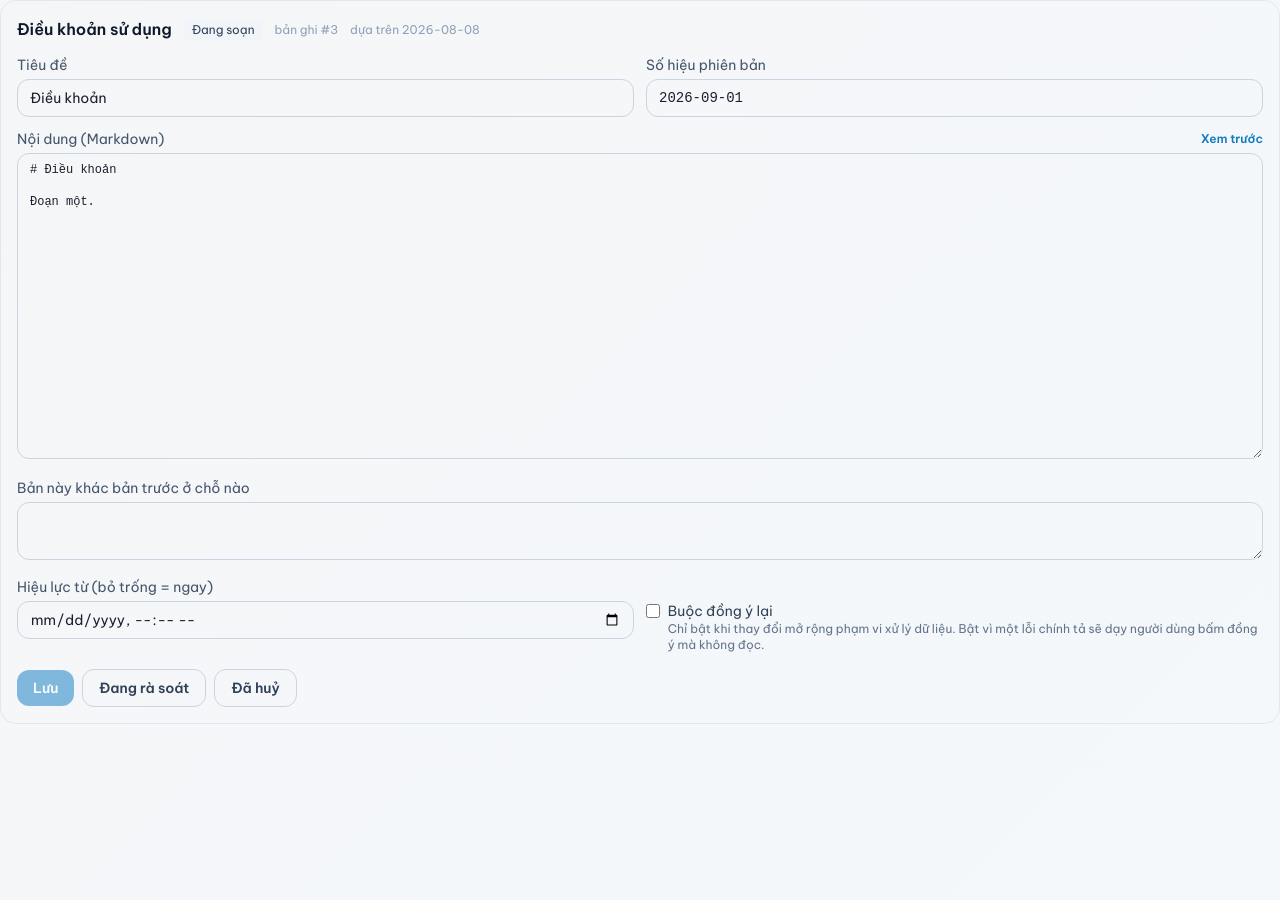
Scenario: DraftEditor — xung đột ghi › GIỮ NGUYÊN bài đang gõ khi máy chủ báo xung đột
Replace the text in the text box named "Nội dung" with "# Bài của tôi, không được mất". click: (640,306)
box: [17,153,1263,459]
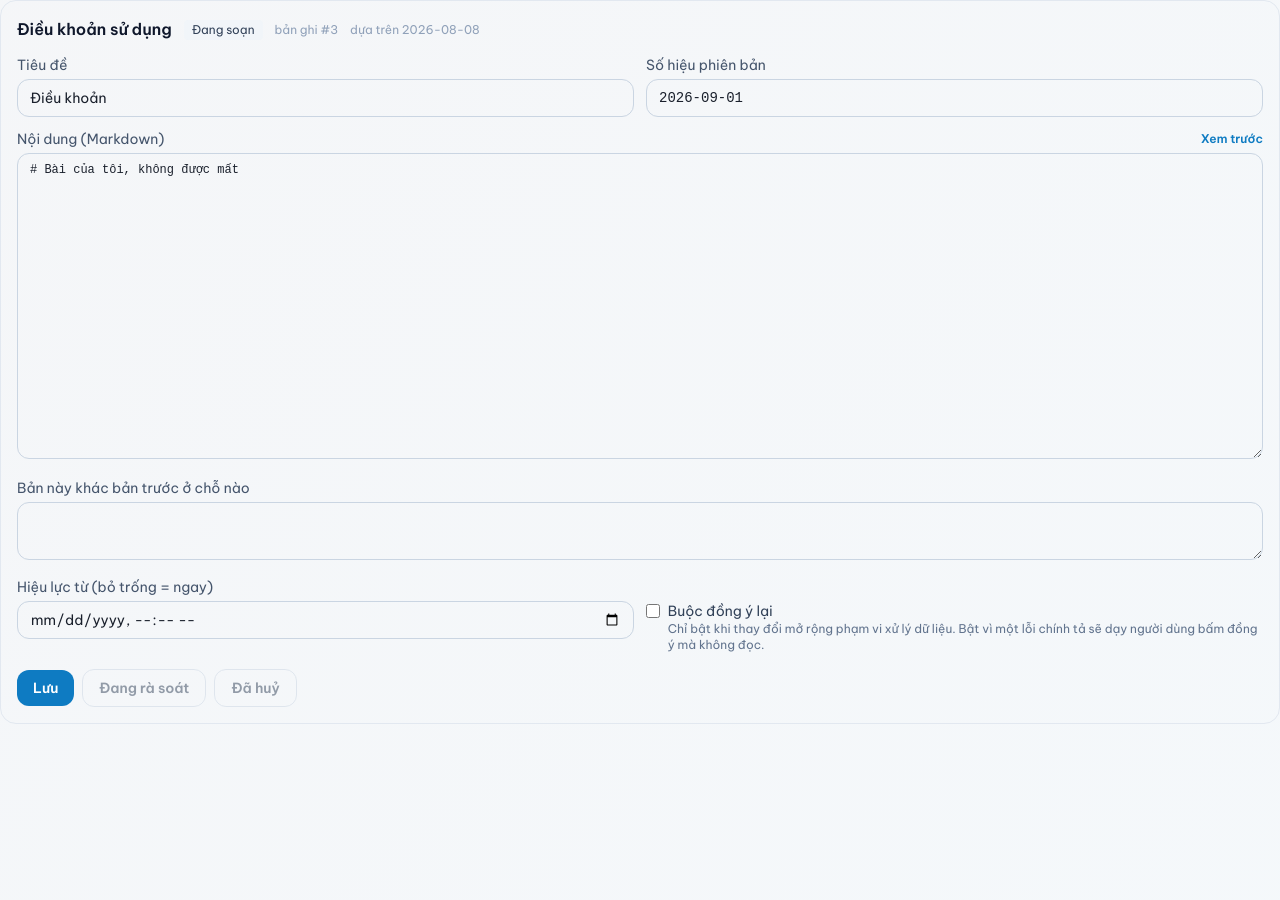
Click the button "Lưu". click: (46,688)
box: [17,670,74,706]
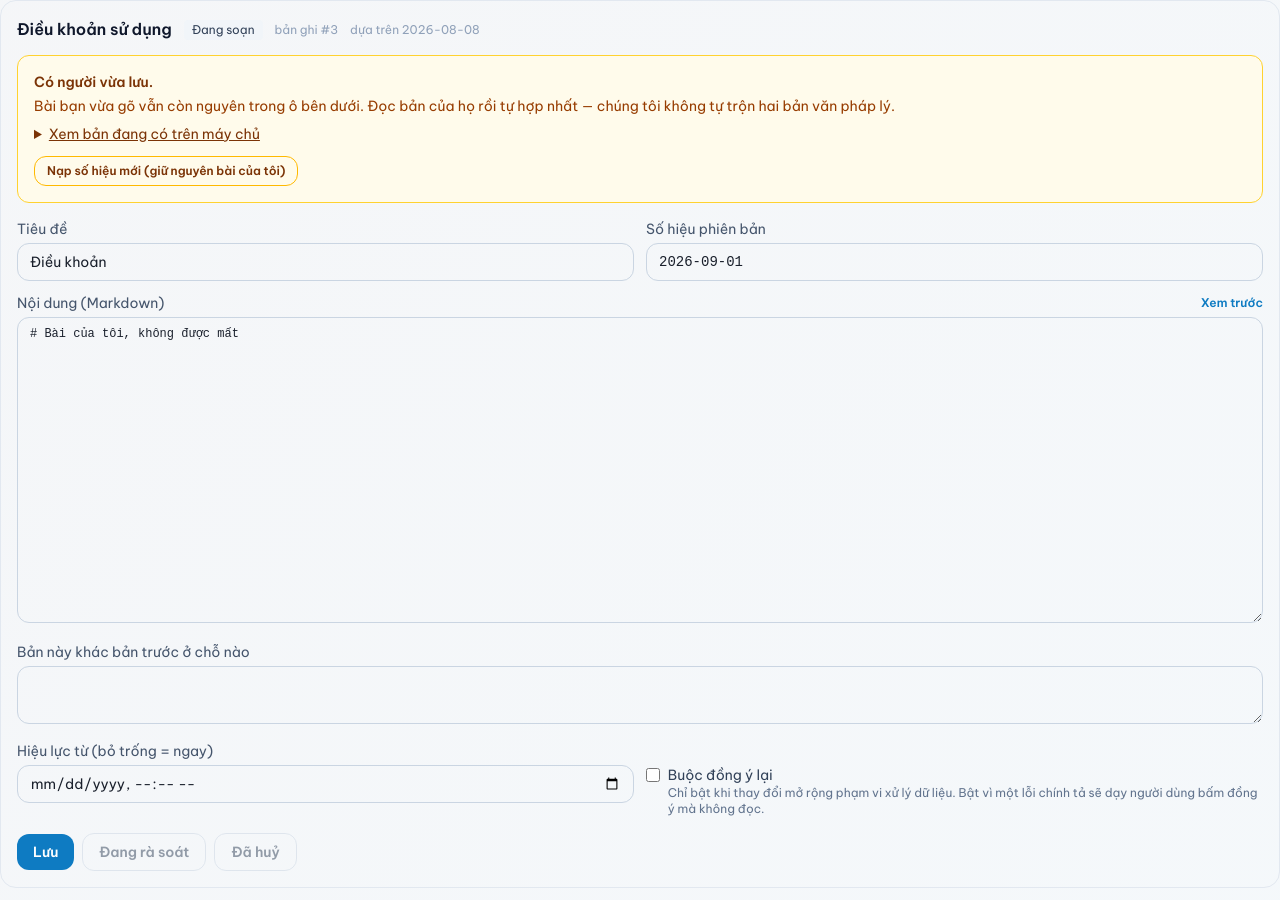
Result: the text "Có người vừa lưu." is shown at [34,73,153,91]
